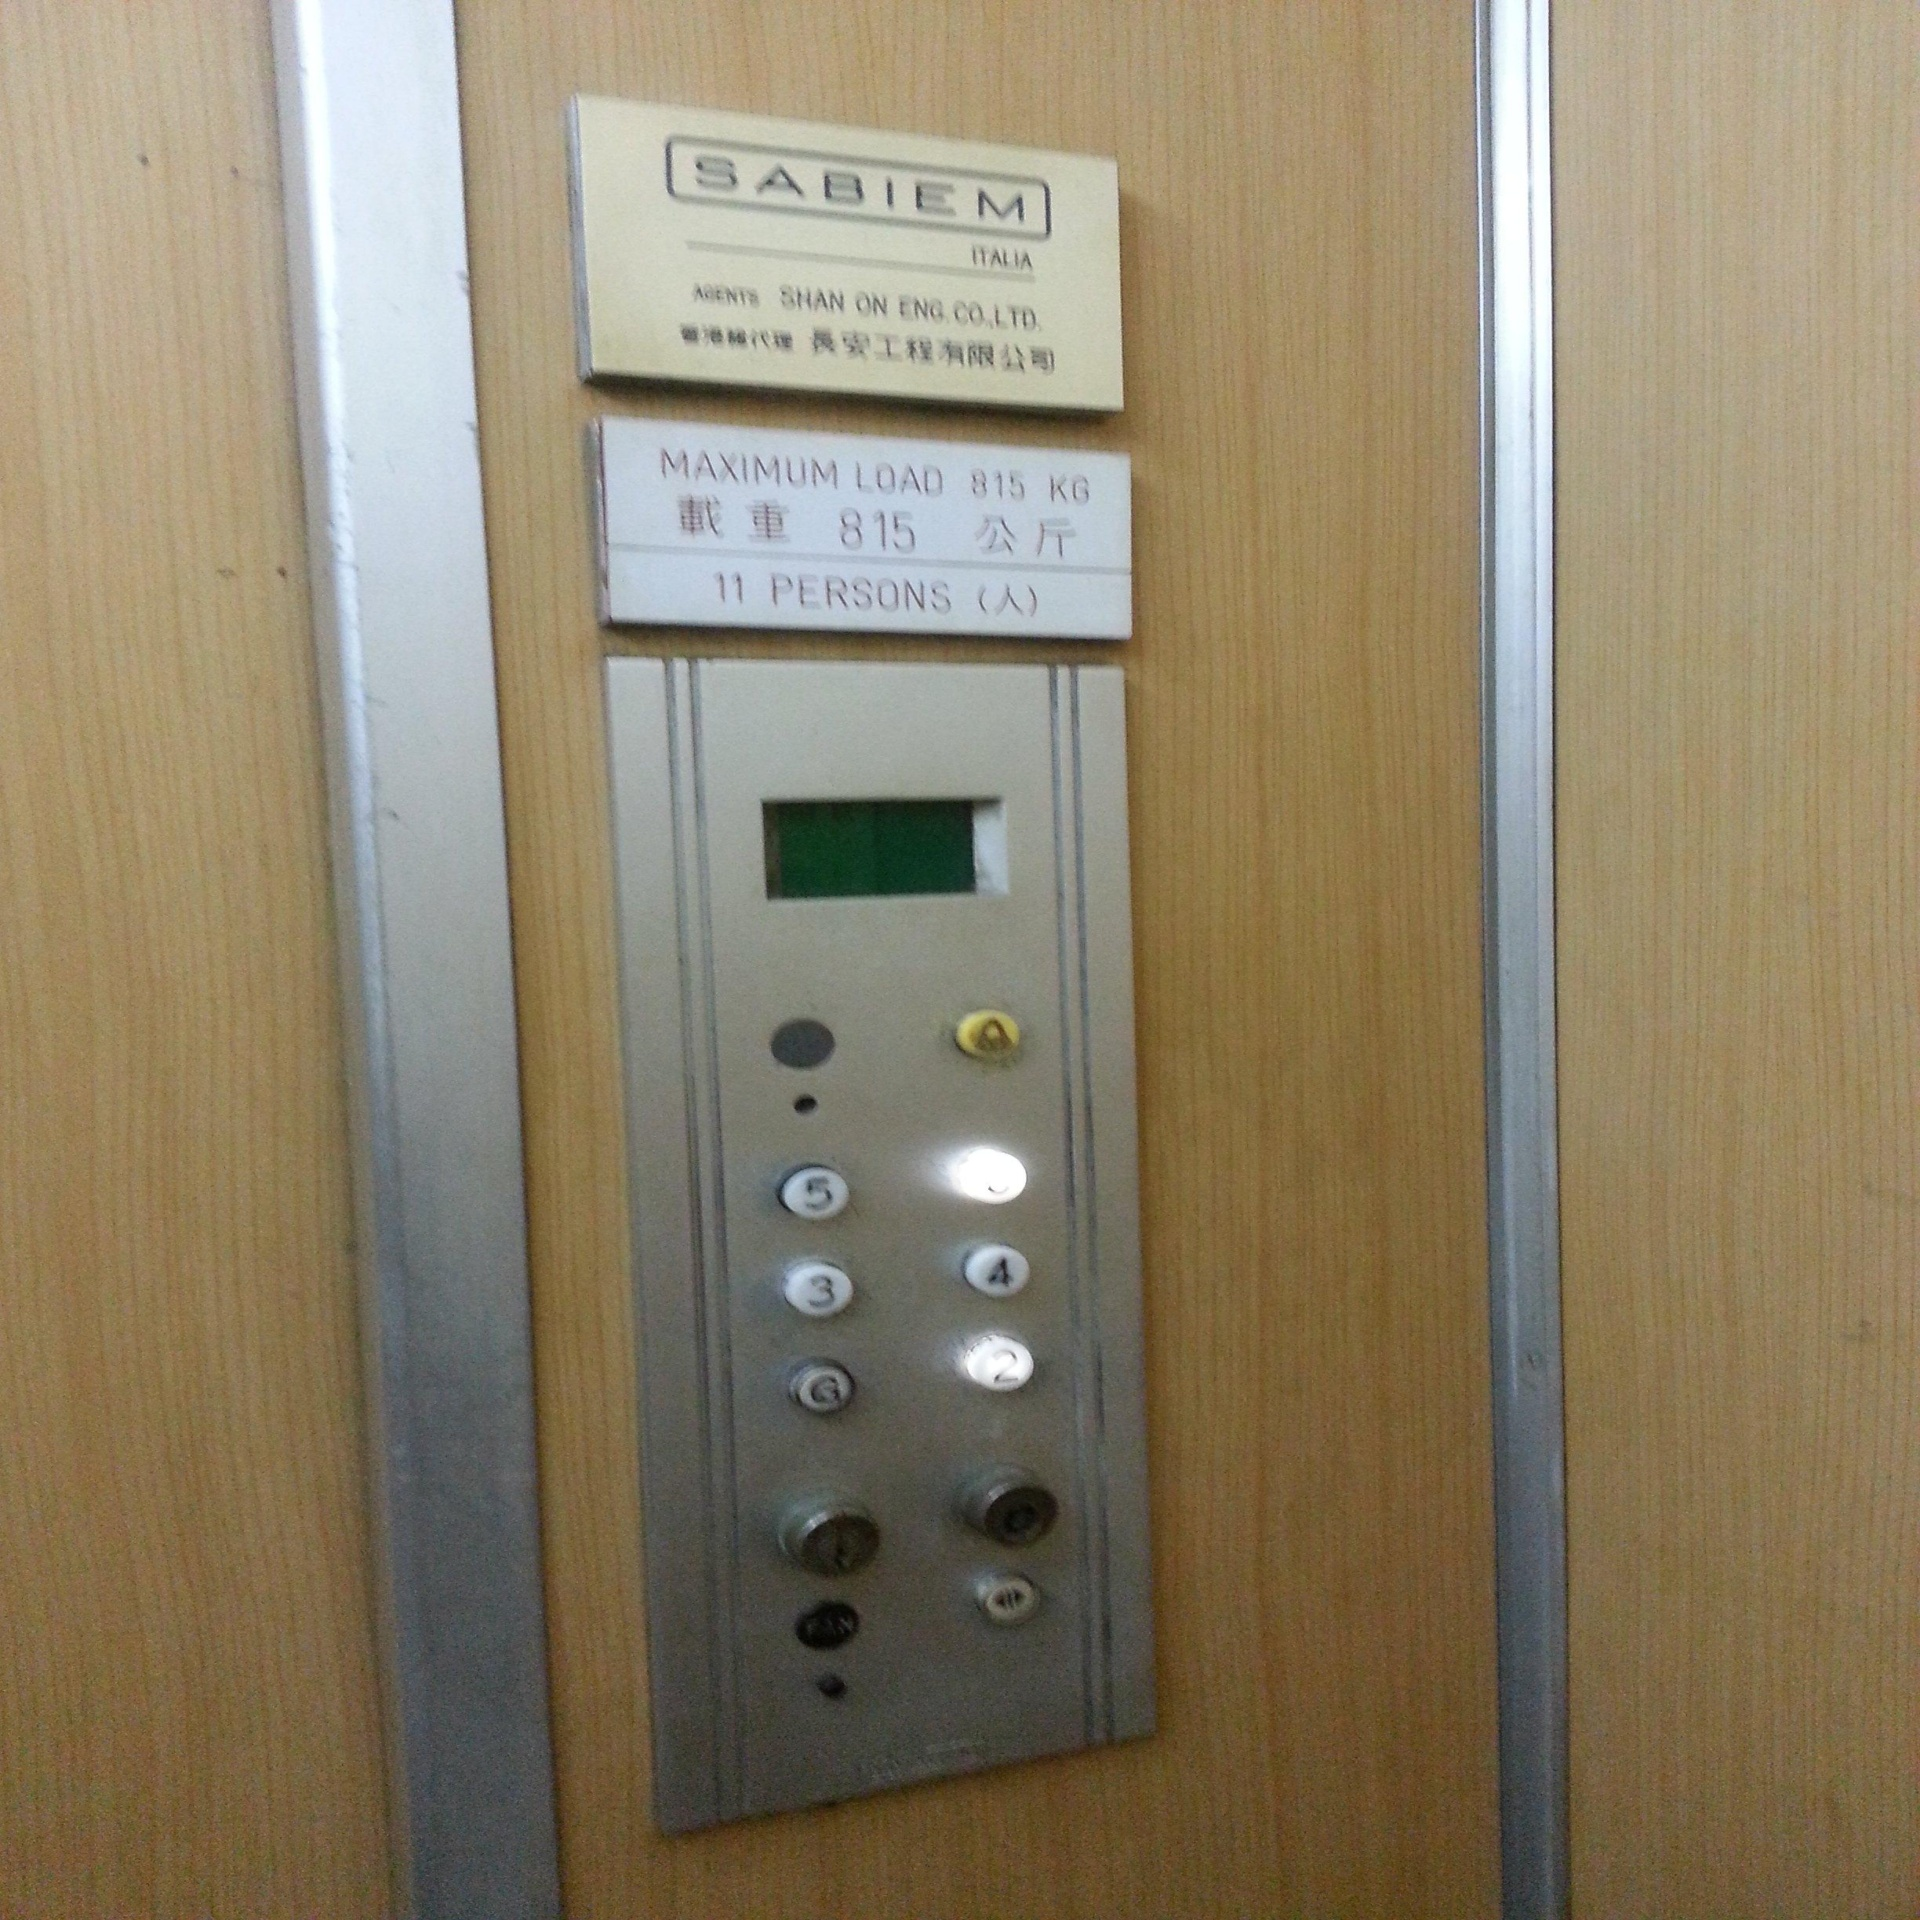2: (964, 1336, 1037, 1394)
3: (782, 1262, 856, 1319)
4: (962, 1243, 1034, 1299)
5: (777, 1164, 853, 1220)
G: (784, 1361, 855, 1415)
alarm: (953, 1007, 1023, 1065)
blur: (958, 1461, 1060, 1547), (955, 1141, 1029, 1208)
empty: (767, 1013, 840, 1074)
keyhole: (777, 1489, 883, 1577)
led: (758, 793, 1006, 902)
open: (971, 1570, 1041, 1628)
text_blur: (795, 1596, 863, 1653)
